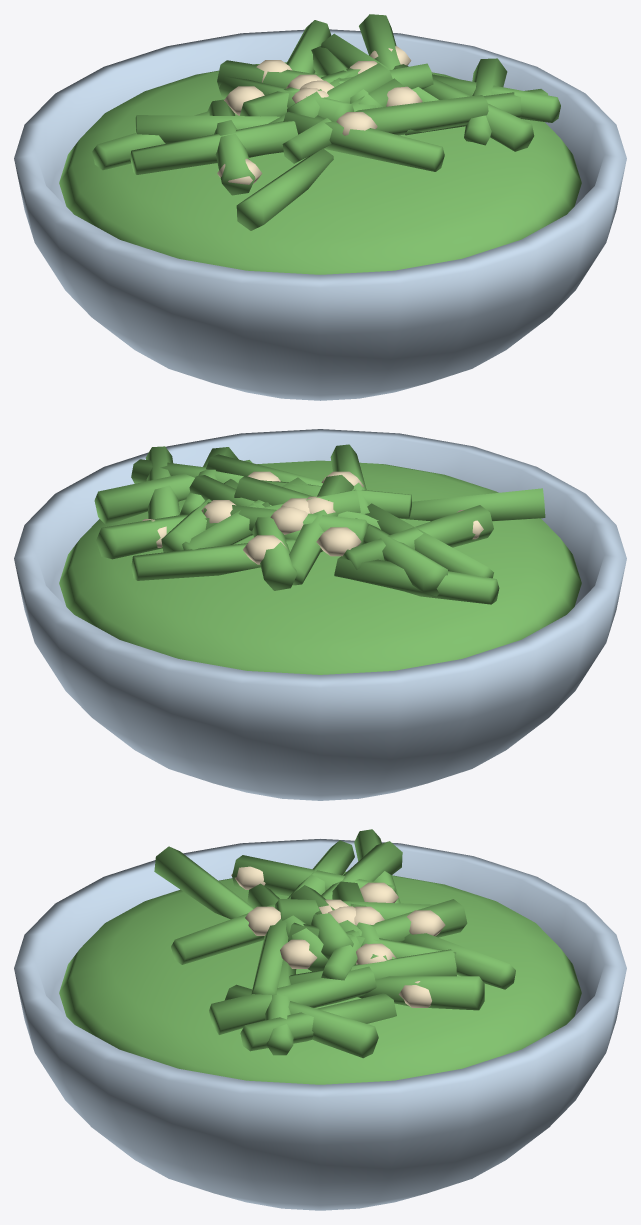
The model's file is bowl-beans.glb.
3 renders of one model, top to bottom at view 1: azimuth 30°, elevation 25°; view 2: azimuth 150°, elevation 25°; view 3: azimuth 270°, elevation 25°, orthographic.
Visible parts, largest first — view 1: bowl, beans-bed, beans, almonds; view 2: bowl, beans-bed, beans, almonds; view 3: bowl, beans-bed, beans, almonds.
Part boxes in pixels (box(x1,y1,x2,y2)): bowl: box(14, 29, 626, 400); beans-bed: box(59, 62, 581, 274); beans: box(92, 14, 560, 230); almonds: box(217, 46, 422, 184); bowl: box(14, 429, 626, 800); beans-bed: box(59, 460, 581, 674); beans: box(94, 444, 545, 604); almonds: box(142, 471, 483, 564); bowl: box(14, 839, 626, 1210); beans-bed: box(59, 871, 581, 1084); beans: box(154, 829, 515, 1058); almonds: box(231, 866, 445, 1007).
Bounding box in the file's own units: 0.1618 × 0.0744 × 0.1618.
